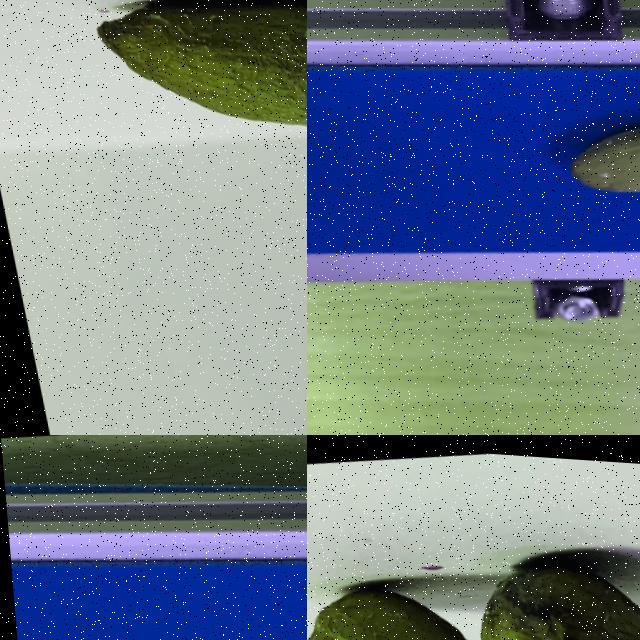Agglomerated_cocoabeans: (307, 484, 639, 639)
Fine_cocoabeans: (50, 0, 306, 232), (470, 34, 639, 256)
